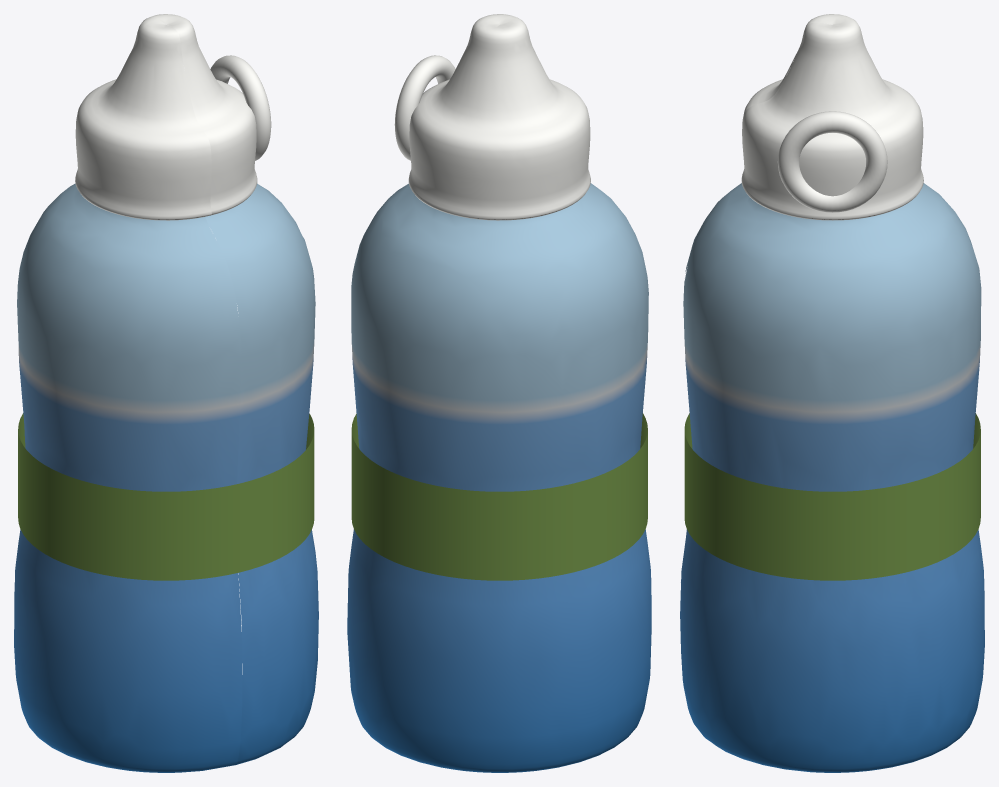
File: bottle.glb
The picture shows the model from 3 angles, left to right: view 1: azimuth 30°, elevation 25°; view 2: azimuth 150°, elevation 25°; view 3: azimuth 270°, elevation 25°; orthographic projection.
Visible parts, largest first — view 1: bottle-body, bottle-cap+bottle-loop, bottle-band; view 2: bottle-body, bottle-cap+bottle-loop, bottle-band; view 3: bottle-body, bottle-cap+bottle-loop, bottle-band.
Part boxes in pixels (bbox=[...]): bottle-body: bbox=[14, 183, 318, 772]; bottle-cap+bottle-loop: bbox=[75, 14, 271, 220]; bottle-band: bbox=[18, 413, 314, 580]; bottle-body: bbox=[347, 183, 651, 772]; bottle-cap+bottle-loop: bbox=[394, 14, 590, 220]; bottle-band: bbox=[351, 413, 647, 580]; bottle-body: bbox=[680, 183, 984, 772]; bottle-cap+bottle-loop: bbox=[741, 14, 923, 220]; bottle-band: bbox=[684, 413, 980, 580].
Size of the model in its own units: 0.6213 by 1.57 by 0.6214.
